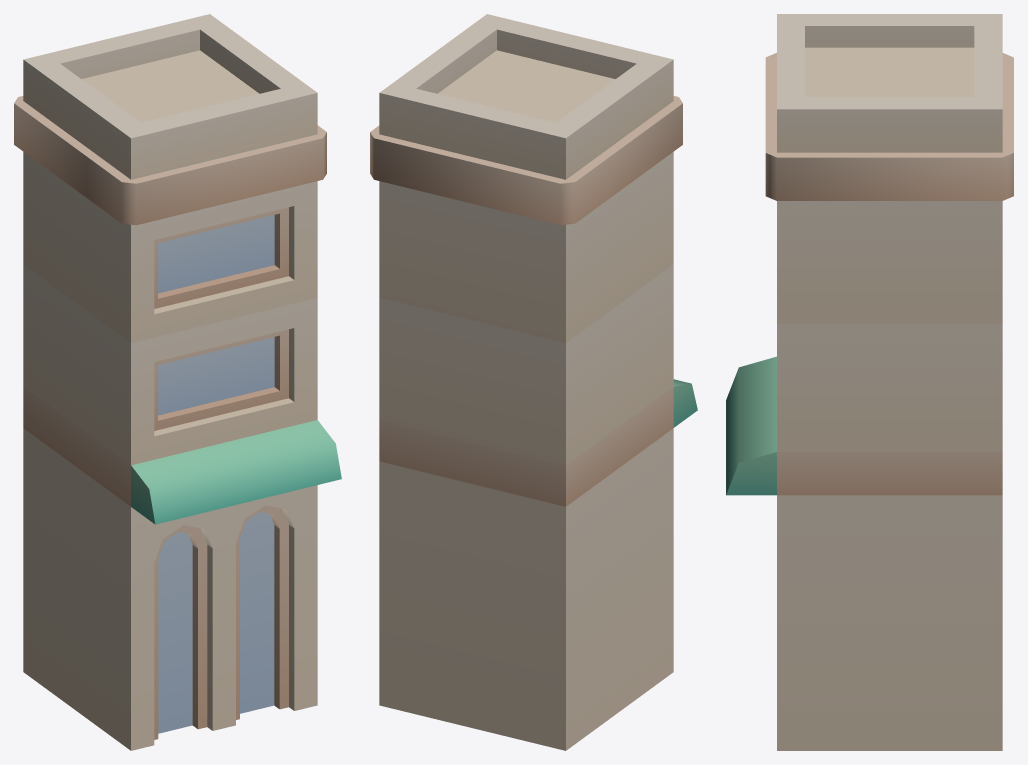
File: building-sample-tower-c.glb
3 views of the same model, side by side, from view 1: azimuth 30°, elevation 25°; view 2: azimuth 150°, elevation 25°; view 3: azimuth 270°, elevation 25° (orthographic). The views are drawn at different scales.
Visible parts, largest first — view 1: building-sample-tower-c; view 2: building-sample-tower-c; view 3: building-sample-tower-c.
Boxes of the visible parts, x1=… form: building-sample-tower-c: x1=14, y1=14, x2=341, y2=750; building-sample-tower-c: x1=370, y1=14, x2=697, y2=750; building-sample-tower-c: x1=726, y1=14, x2=1013, y2=750.
Size of the model in its own units: 1.1 by 3.14 by 1.28.
